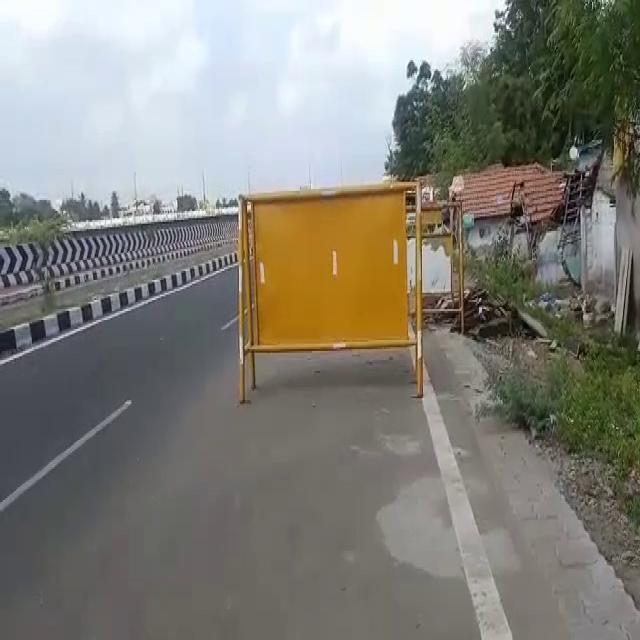fallen_object: (220, 177, 454, 401)
